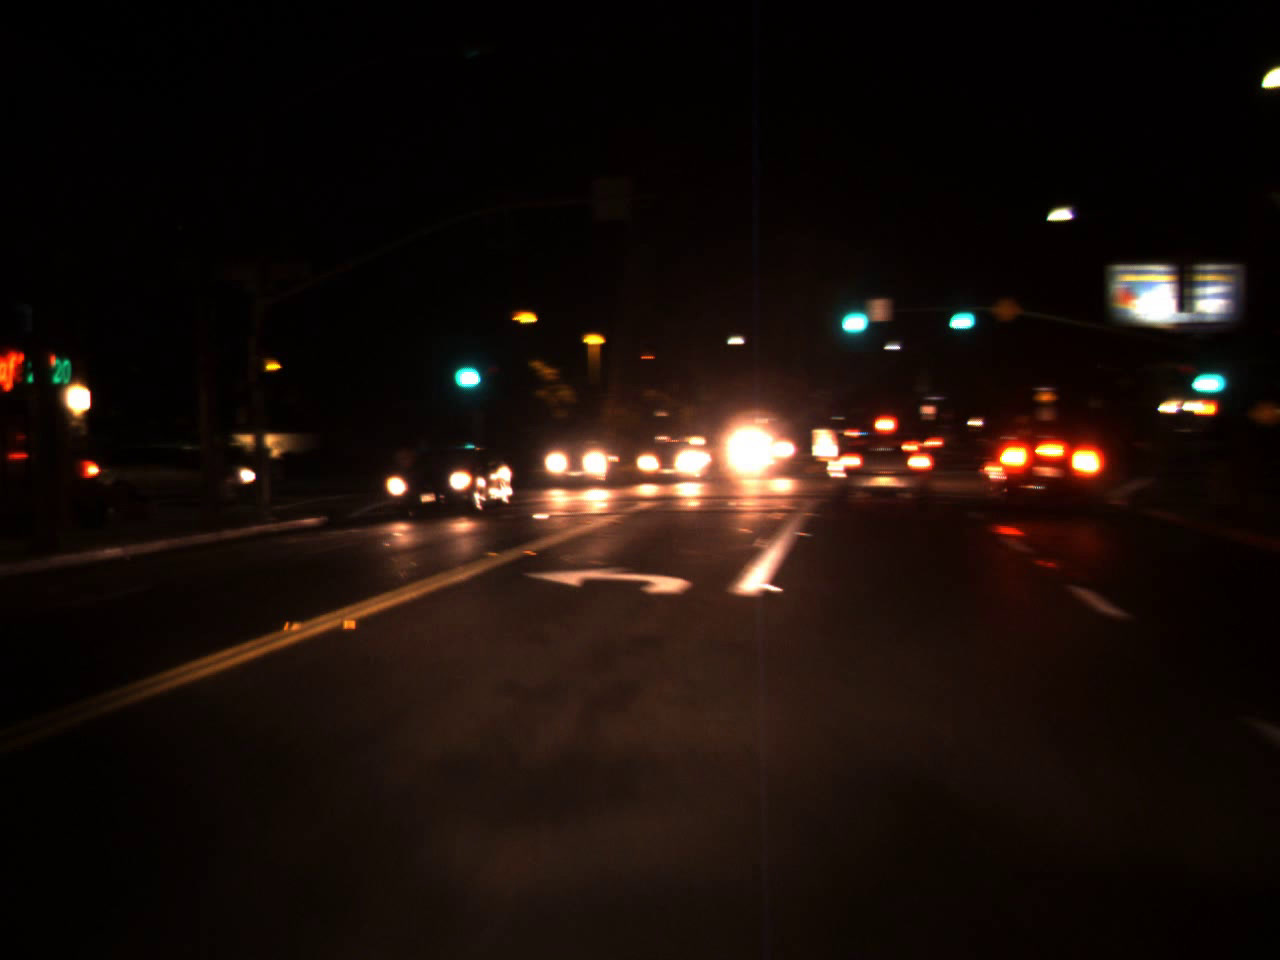go: (444, 339, 487, 396), (829, 287, 875, 341), (1184, 353, 1229, 398), (938, 293, 981, 335)
